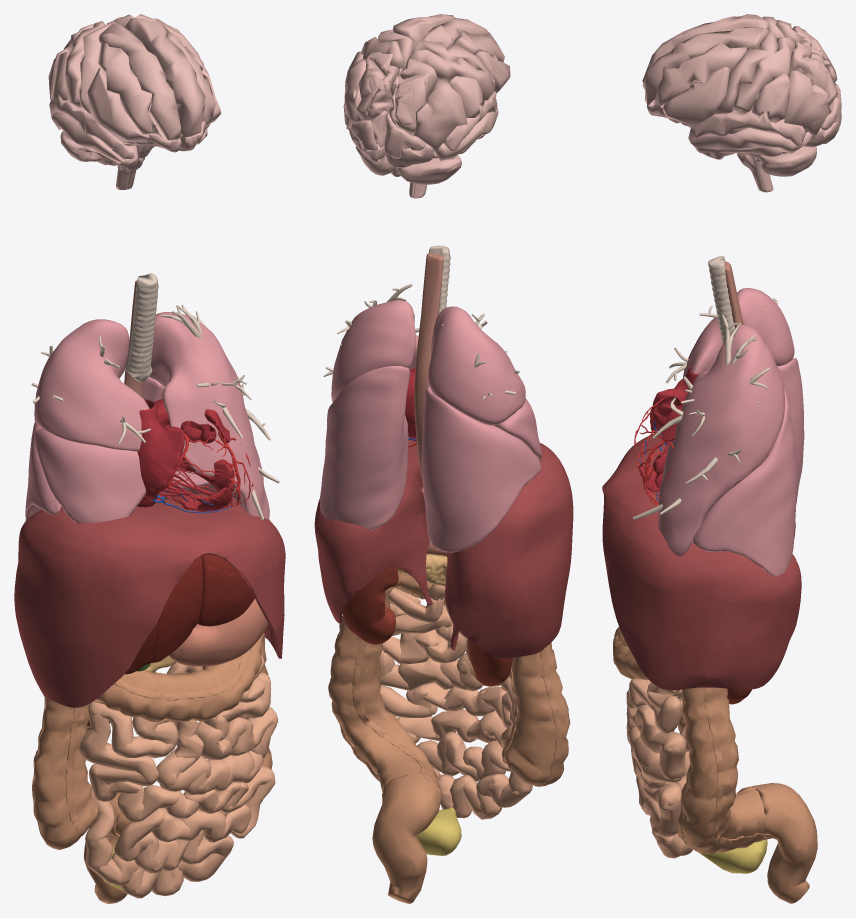
Rendered from organs.glb.
3 renders of one model, left to right at view 1: azimuth 30°, elevation 25°; view 2: azimuth 150°, elevation 25°; view 3: azimuth 270°, elevation 25°, orthographic. The views are drawn at different scales.
Parts seen in each view (by area): view 1: diaphragm, small-intestine, brain, lung-right, large-intestine, lung-left, heart, liver, airways, stomach; view 2: diaphragm, large-intestine, brain, lung-right, small-intestine, lung-left, esophagus, kidney-left, bladder, airways, kidney-right, pancreas (+1 smaller); view 3: diaphragm, lung-left, brain, large-intestine, small-intestine, lung-right, airways, heart, bladder, esophagus.
Part boxes in pixels (x1,y1,x2,y2): diaphragm: [14, 493, 285, 707]; small-intestine: [79, 655, 277, 898]; brain: [48, 14, 221, 189]; lung-right: [25, 319, 149, 523]; large-intestine: [32, 632, 272, 903]; lung-left: [141, 312, 269, 519]; heart: [137, 399, 253, 513]; liver: [125, 554, 254, 674]; airways: [31, 273, 279, 520]; stomach: [168, 599, 268, 666]; diaphragm: [314, 440, 573, 658]; large-intestine: [328, 572, 570, 903]; brain: [343, 14, 510, 198]; lung-right: [422, 306, 541, 552]; small-intestine: [378, 584, 532, 819]; lung-left: [319, 299, 418, 530]; esophagus: [414, 253, 443, 483]; kidney-left: [342, 568, 398, 644]; bladder: [417, 807, 461, 855]; airways: [323, 245, 523, 399]; kidney-right: [468, 639, 512, 685]; pancreas: [397, 554, 447, 586]; diaphragm: [602, 434, 801, 690]; lung-left: [658, 324, 797, 576]; brain: [642, 14, 841, 192]; large-intestine: [613, 627, 817, 903]; small-intestine: [626, 679, 692, 858]; lung-right: [682, 287, 804, 504]; airways: [632, 256, 777, 519]; heart: [634, 366, 712, 505]; bladder: [698, 839, 767, 873]; esophagus: [724, 261, 743, 328].
Size of the model in its own units: 0.2474 by 0.8722 by 0.2155.
